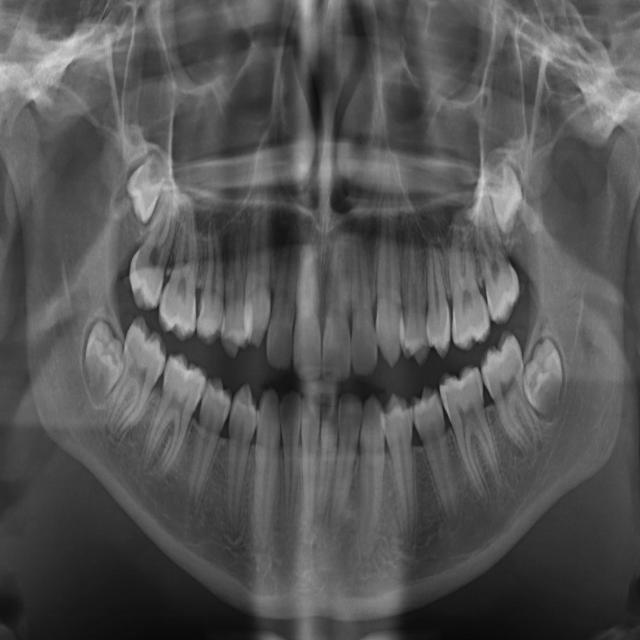3M ESPE Implant: (113, 142, 176, 225)
AGS Medikal Implant: (472, 326, 547, 463)
AMerOss Implant: (435, 362, 513, 510)
Amalgam filling: (151, 216, 152, 217)
Anthogyr Implant: (407, 382, 465, 534)
Bicon Implant: (381, 391, 429, 555)
BioHorizons Implant: (358, 394, 386, 558)
BioLife Implant: (328, 391, 363, 531)
Biomet 3i Implant: (313, 393, 339, 524)
Blue Sky Bio Implant: (299, 396, 319, 525)
Camlog Implant: (277, 389, 301, 528)
Caries: (378, 344, 378, 345)
Composite filling: (251, 387, 281, 568)
Cowellmedi Implant: (216, 381, 258, 543)
Crown: (178, 375, 234, 521)
DENTSPLY Implant: (156, 200, 203, 341)
Dentatus Implant: (128, 348, 212, 486)
Dentis Implant: (96, 312, 175, 454)
Dentium Implant: (71, 316, 128, 405)
Euroteknika Implant: (195, 211, 228, 347)
Filling: (223, 308, 224, 309)
Frontier Implant: (244, 171, 272, 349)
Hiossen Implant: (375, 185, 400, 368)
Implant: (294, 321, 294, 322)
Implant Direct: (266, 328, 267, 329)
Keystone Dental Implant: (322, 220, 351, 383)
MIS Implant: (400, 213, 430, 366)
Mandible: (423, 233, 454, 361)
Maxilla: (445, 211, 494, 352)
Megagen Implant: (465, 183, 527, 327)
Neodent Implant: (477, 154, 536, 236)
Neoss Implant: (521, 335, 574, 421)
